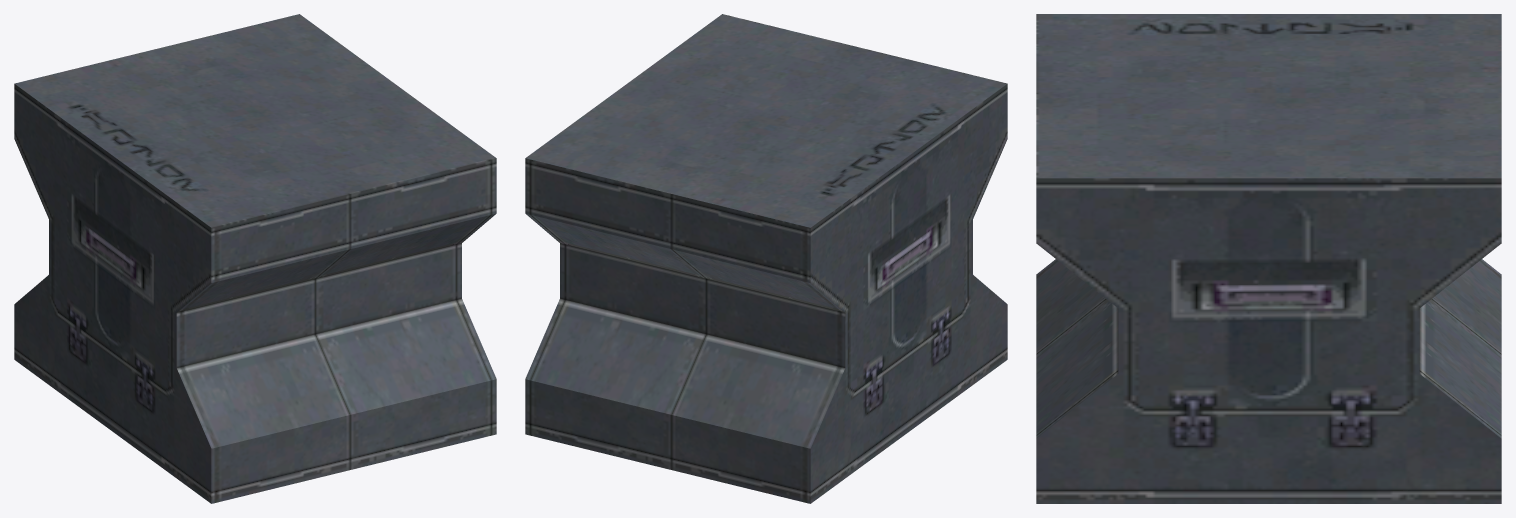
Rendered from con_gen_inorganic_gas_sml_l1.fbx.
3 renders of one model, left to right at view 1: azimuth 30°, elevation 25°; view 2: azimuth 150°, elevation 25°; view 3: azimuth 270°, elevation 25°, orthographic. The views are drawn at different scales.
Visible parts, largest first — view 1: mesh_node; view 2: mesh_node; view 3: mesh_node.
Part boxes in pixels (<box>): mesh_node: <box>14,14,496,503</box>; mesh_node: <box>525,14,1007,503</box>; mesh_node: <box>1036,14,1501,503</box>.
Bounding box in the file's own units: 0.2565 × 0.2372 × 0.3072.
